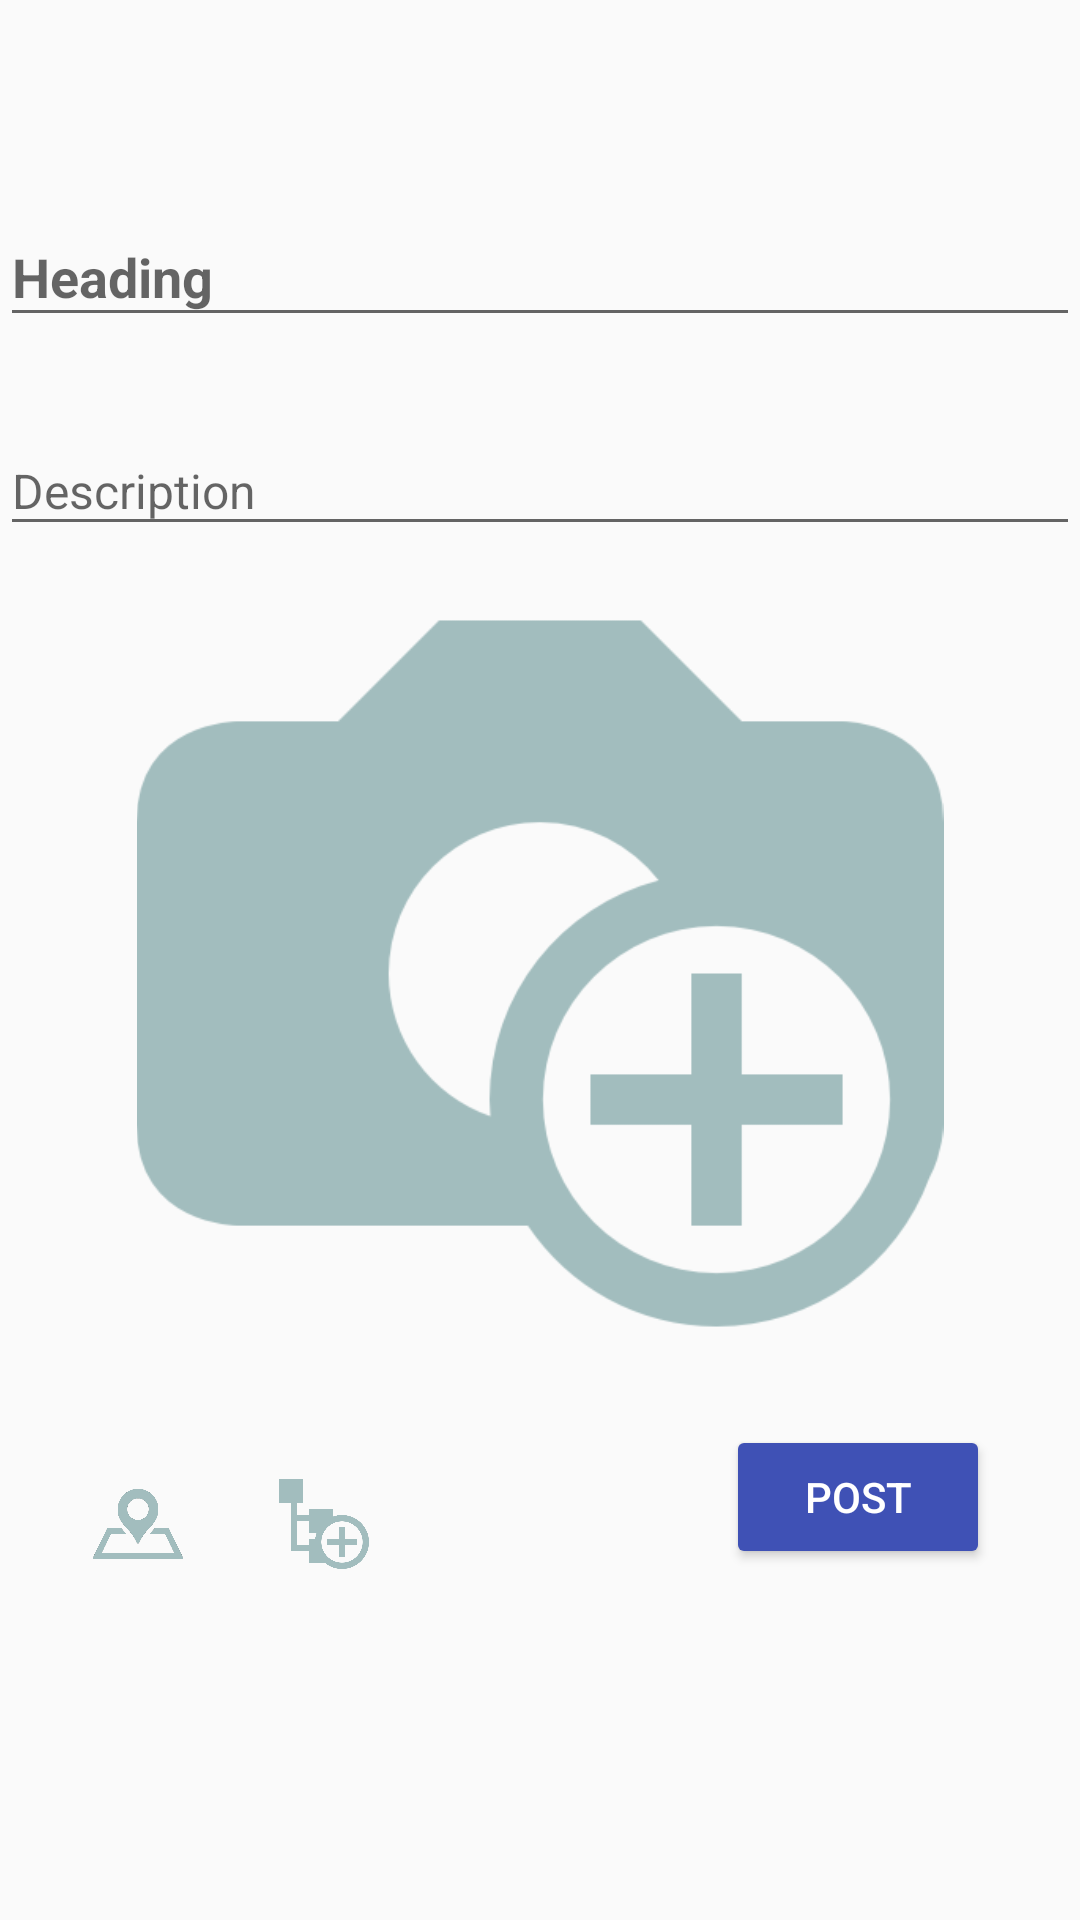

Icon click points for this 1080px x 1920px phone screenshot, format (x,y):
category add: (324,1524)
location add: (138,1524)
